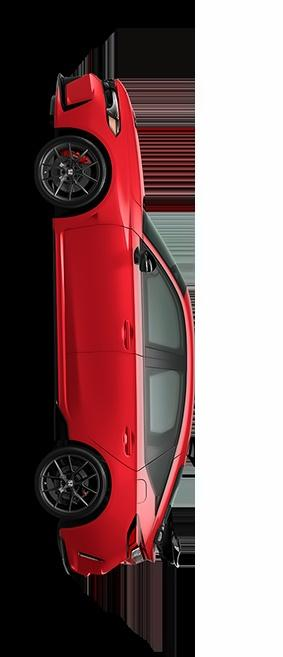Car hood: (122, 88, 148, 211)
Fender - -F-L-: (49, 175, 151, 231)
Fender - -R-L-: (54, 415, 168, 532)
Front bumper: (49, 70, 100, 135)
Headlight - -R-: (98, 72, 124, 138)
Passenger-s door - -F-L-: (62, 223, 194, 354)
Passenger-s door - -R-L-: (62, 354, 196, 471)
Rear bumper: (42, 519, 127, 581)
Rear light - -L-: (123, 508, 159, 572)
Side bumper - -L-: (47, 212, 72, 452)
Side mirror - -L-: (128, 240, 159, 277)
